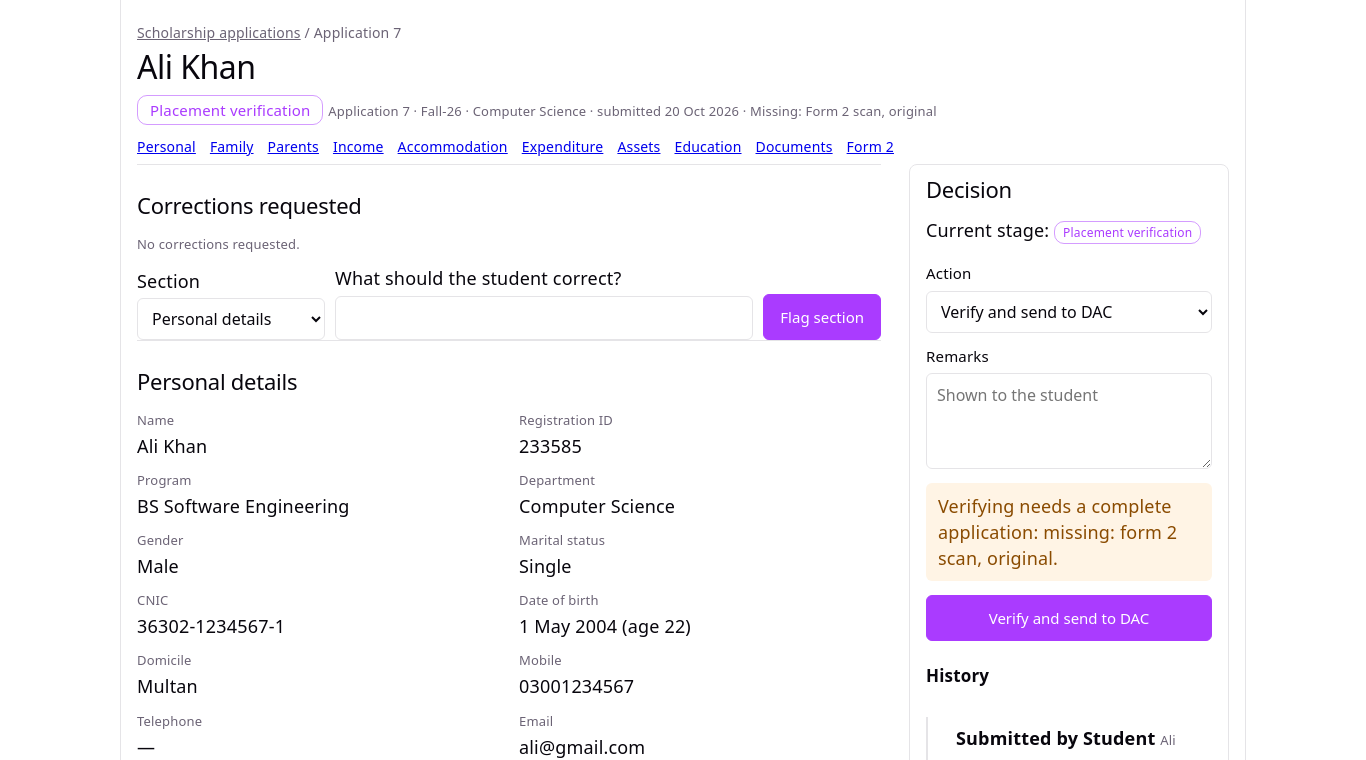
Test case: rejecting without remarks shows the server message beside remarks
Select "Reject" in the dropdown labelled "Action" at [1069, 312], box [926,290,1212,332]
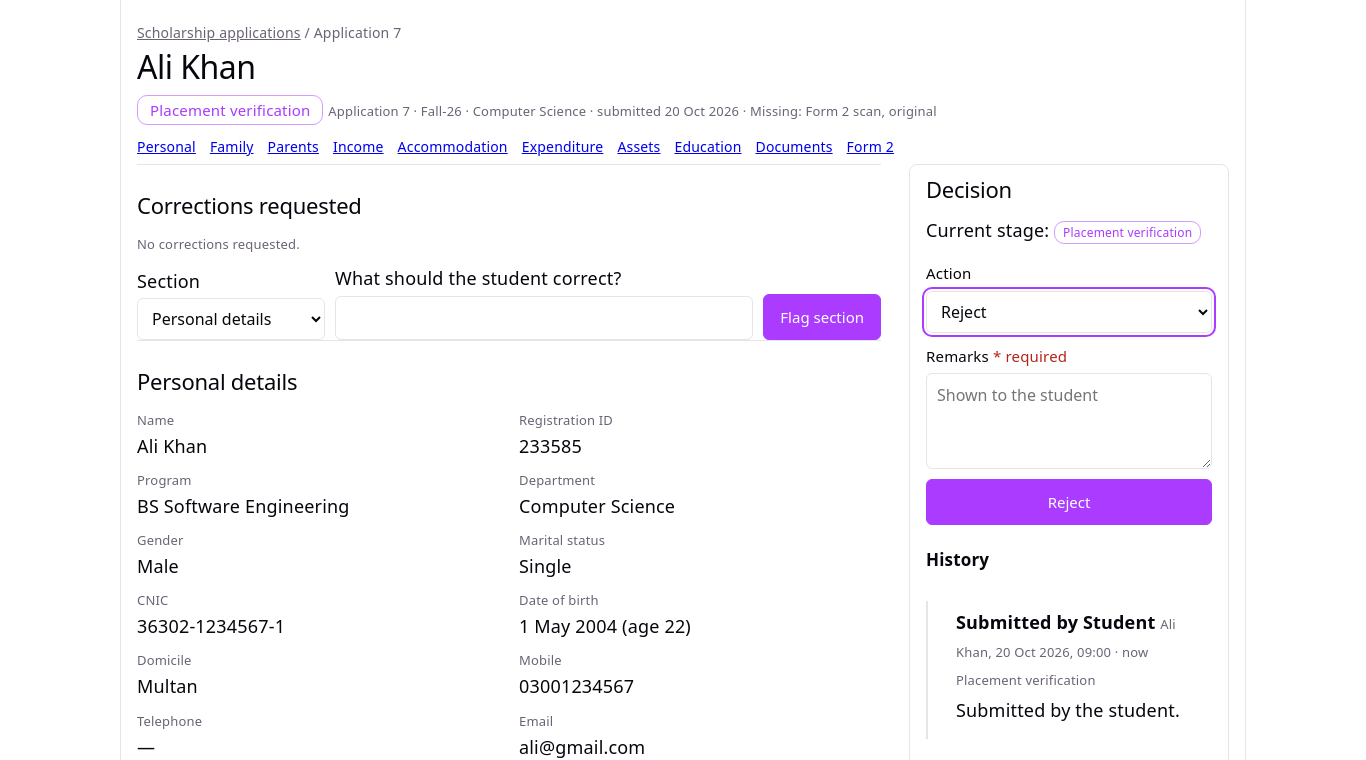
Result: the text "* required" is shown at [989,346,1067,366]
Click the button "Reject" at [1069, 502], box [926,479,1212,525]
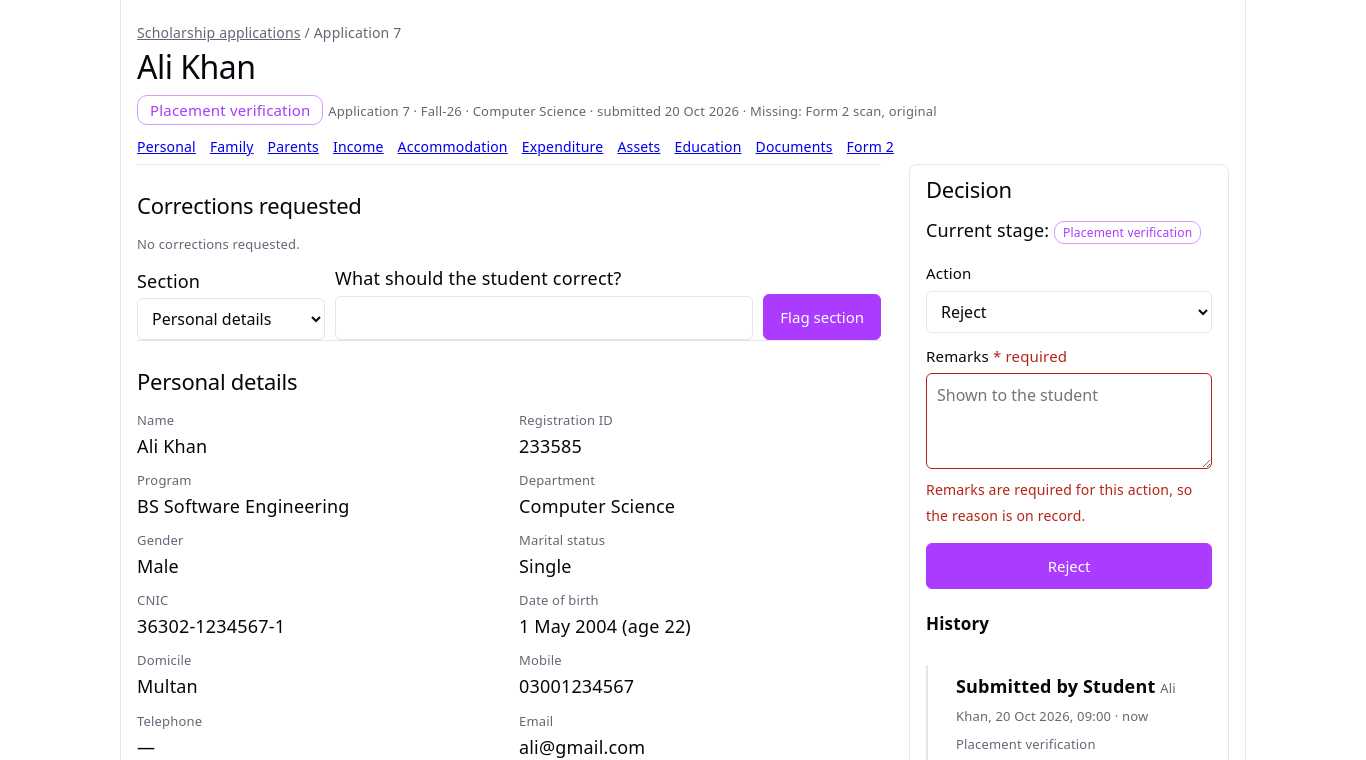
Result: the text "Remarks are required for this action, so the reason is on record." is shown at [926,477,1212,529]
